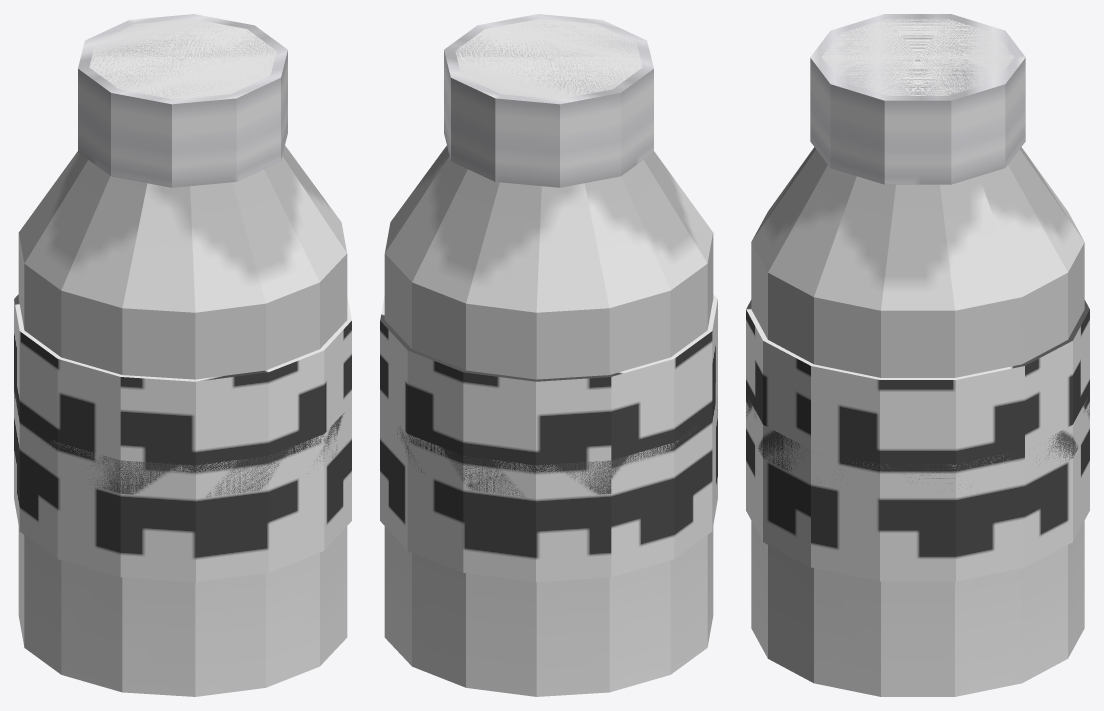
File: passata.obj
The picture shows the model from 3 angles, left to right: view 1: azimuth 30°, elevation 25°; view 2: azimuth 150°, elevation 25°; view 3: azimuth 270°, elevation 25°; orthographic projection.
Visible parts, largest first — view 1: passata; view 2: passata; view 3: passata.
Part boxes in pixels (x1,y1,x2,y2): passata: [14, 14, 351, 696]; passata: [380, 14, 717, 696]; passata: [746, 14, 1089, 696].
Bounding box in the file's own units: 0.0904 × 0.17 × 0.0928.
4 materials, 4 textured.
